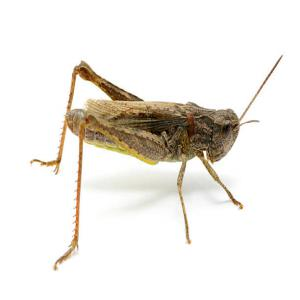locust: (30, 43, 277, 261)
